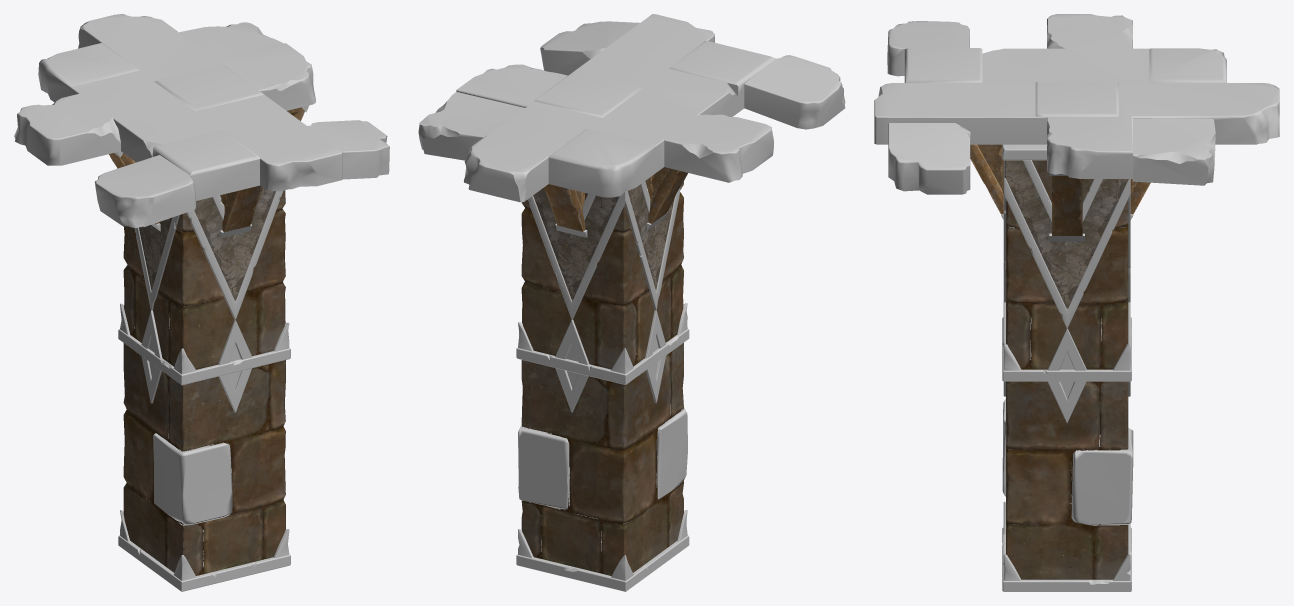
3 views of the same model, side by side, from view 1: azimuth 30°, elevation 25°; view 2: azimuth 150°, elevation 25°; view 3: azimuth 270°, elevation 25° (orthographic).
Visible parts, largest first — view 1: SM_Vault_10m_Dmg_Platform_01_V1_LOD0; view 2: SM_Vault_10m_Dmg_Platform_01_V1_LOD0; view 3: SM_Vault_10m_Dmg_Platform_01_V1_LOD0.
Part boxes in pixels (<box>): SM_Vault_10m_Dmg_Platform_01_V1_LOD0: <box>14,14,389,591</box>; SM_Vault_10m_Dmg_Platform_01_V1_LOD0: <box>418,14,845,591</box>; SM_Vault_10m_Dmg_Platform_01_V1_LOD0: <box>874,14,1279,591</box>.
Size of the model in its own units: 5.39 by 8.54 by 6.64.
